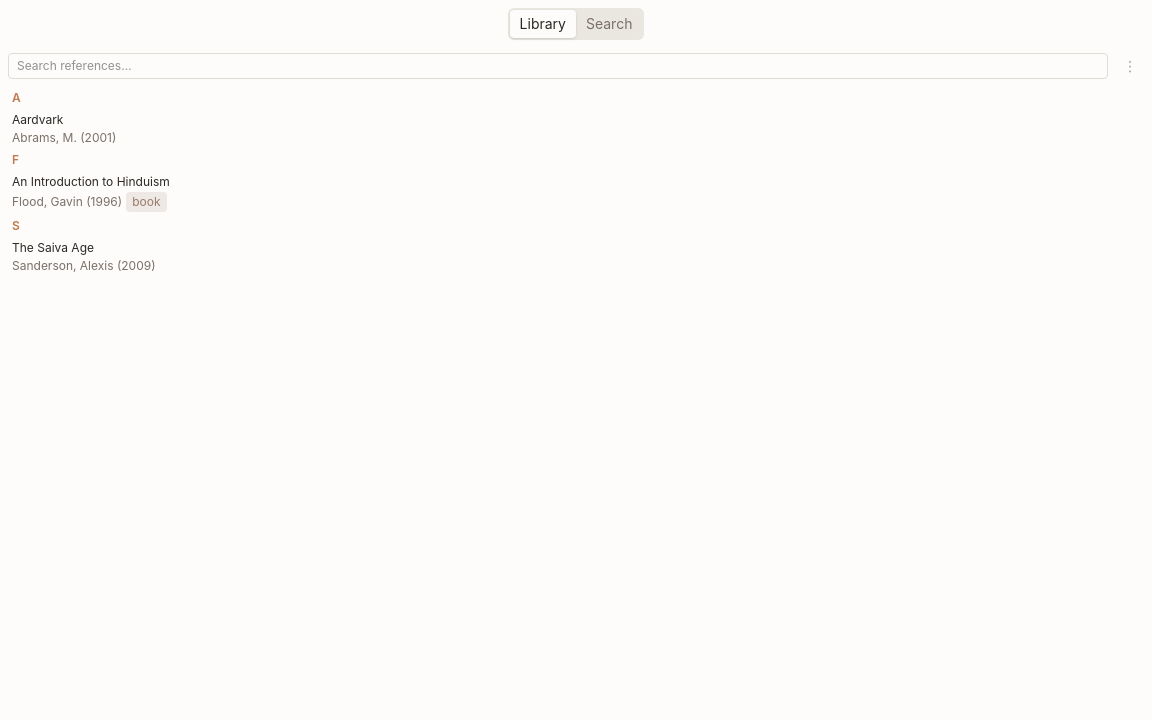
ReferenceLibrary › only one card expanded at a time
This screenshot has width=1152, height=720.
Click the text "The Saiva Age" at [53, 248], box [12,240,94,255]
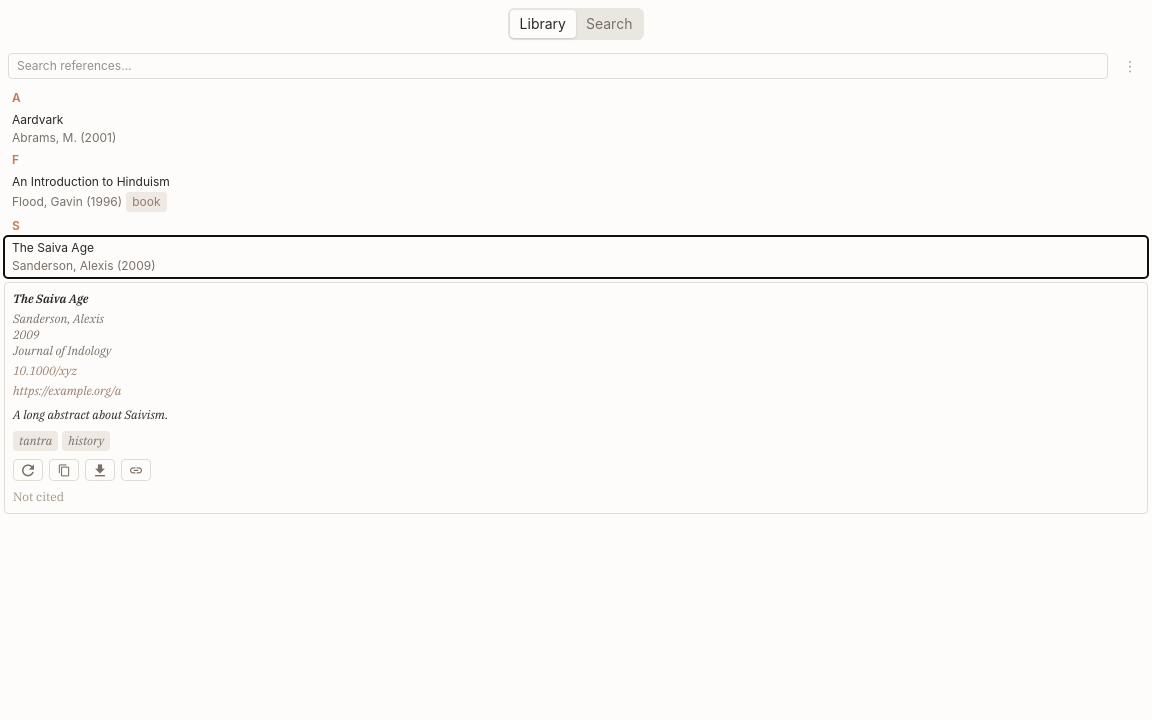
Result: the text "A long abstract about Saivism." is shown at [13,407,168,422]
Click the text "An Introduction to Hinduism" at [91, 182], box [12,174,170,189]
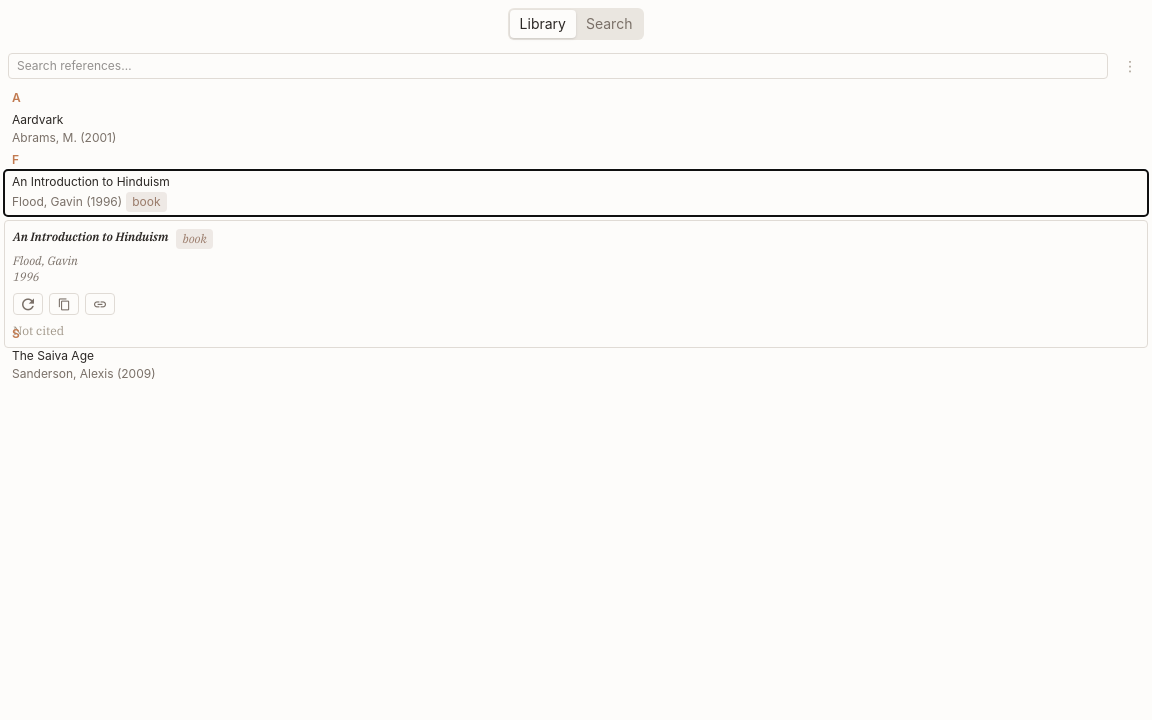
Result: the text "A long abstract about Saivism." is gone
